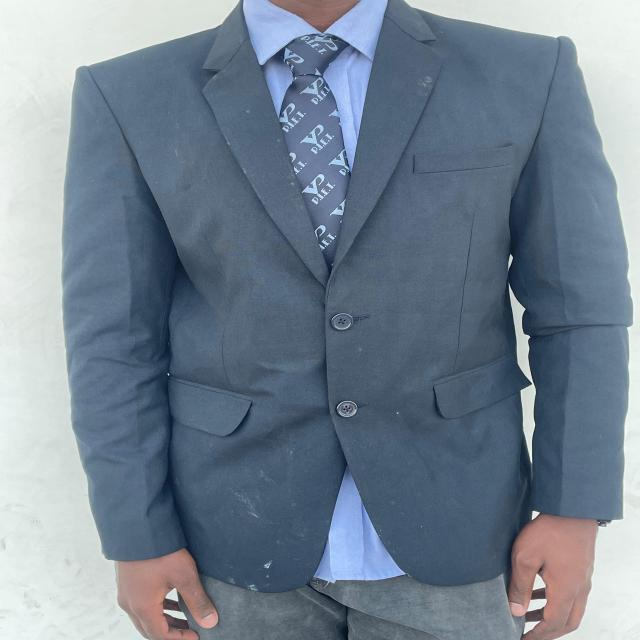Tie: (278, 33, 352, 269)
uniform: (60, 0, 633, 606)
